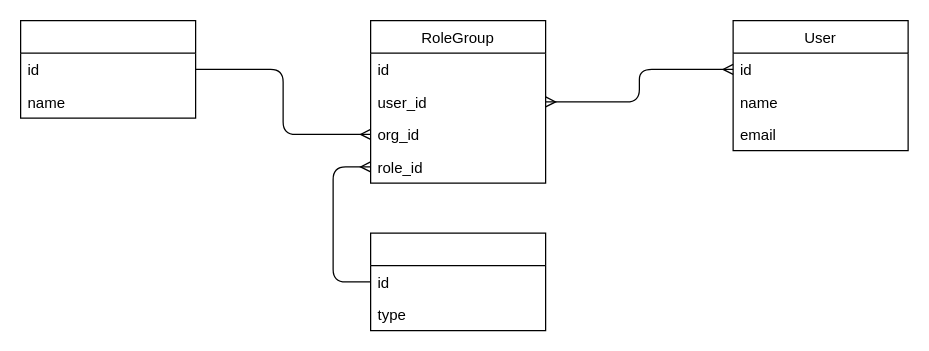
The diagram is 929 pixels wide and 351 high, and some of its shapes have lost their labels. The shapes that lost their labels are listed below. From the top down, each one's box as (x1, y1, x2, y2) in pixels, then its label:
(19, 19, 196, 118): Organization
(369, 232, 546, 331): Role
